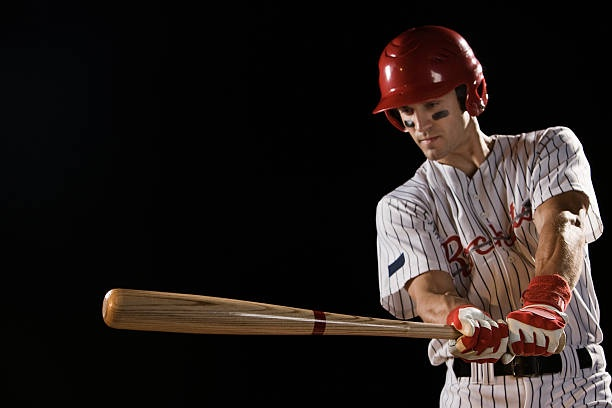bita: (97, 290, 479, 345)
